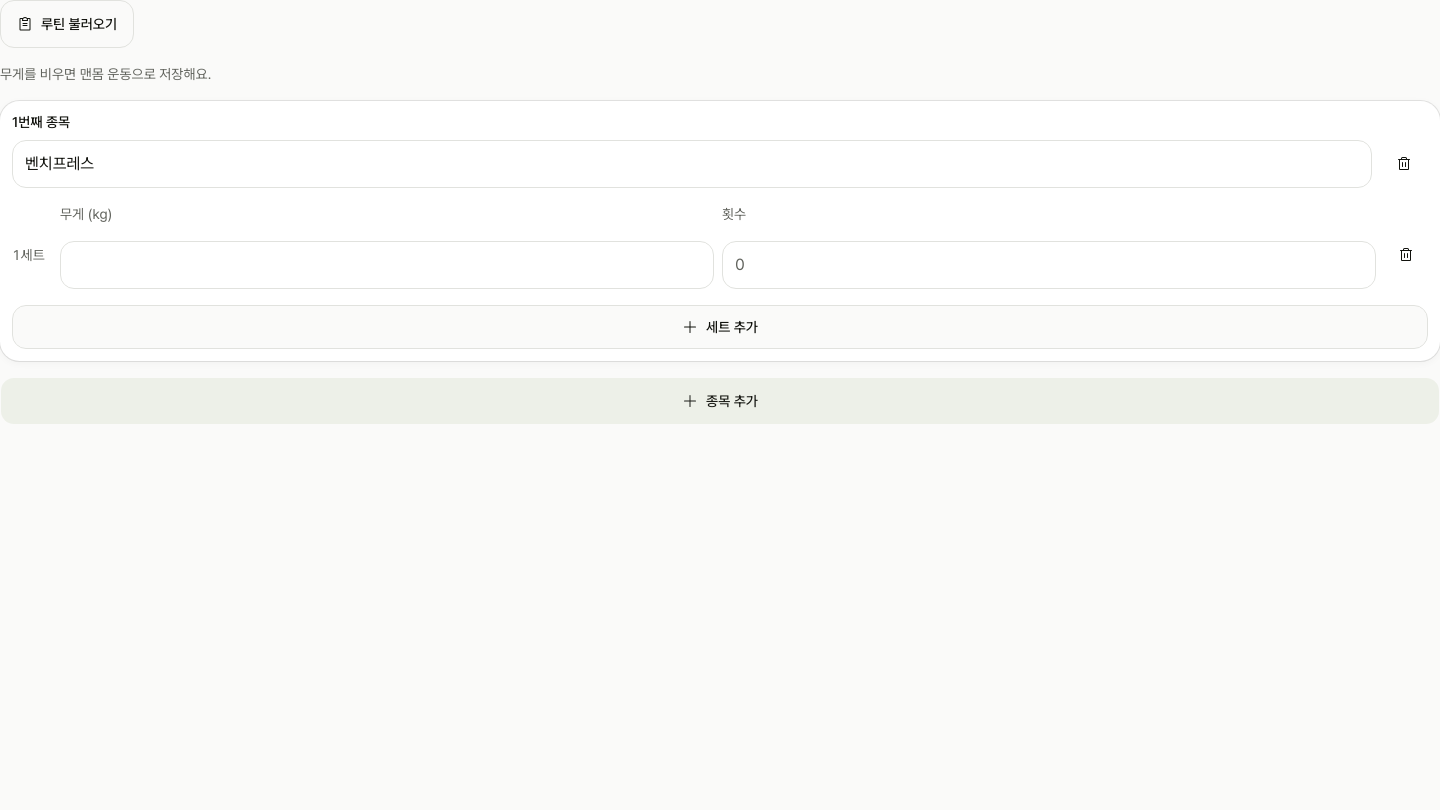
Scenario: 루틴 불러오기 › 다른 루틴 고르기를 누르면 아무것도 바꾸지 않고 목록으로 돌아간다
Click the button "루틴 불러오기": [67, 24] box [0,0,134,48]
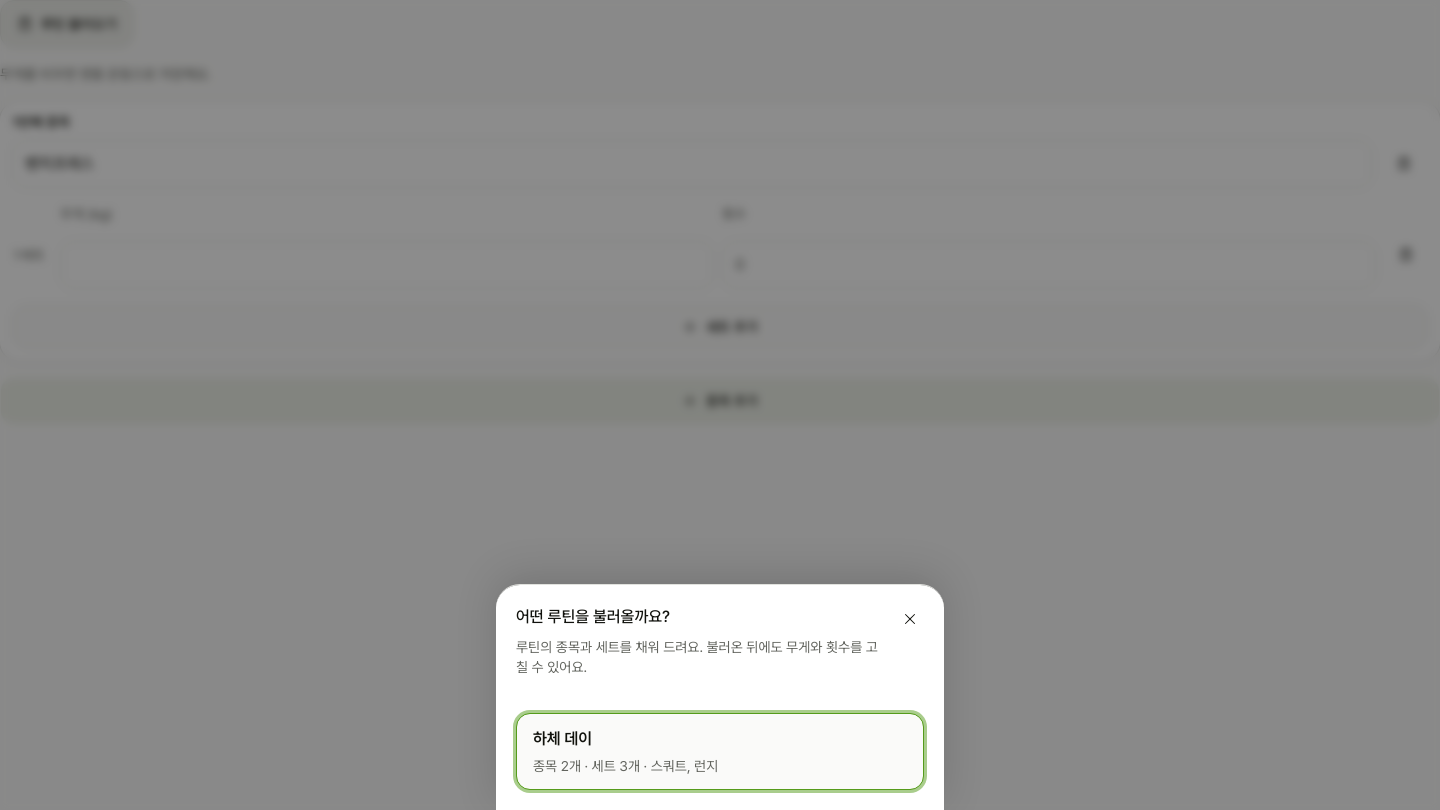
Click the button "하체 데이 종목 2개 · 세트 3개 · 스쿼트, 런지": [563, 739] box [516,713,924,790]
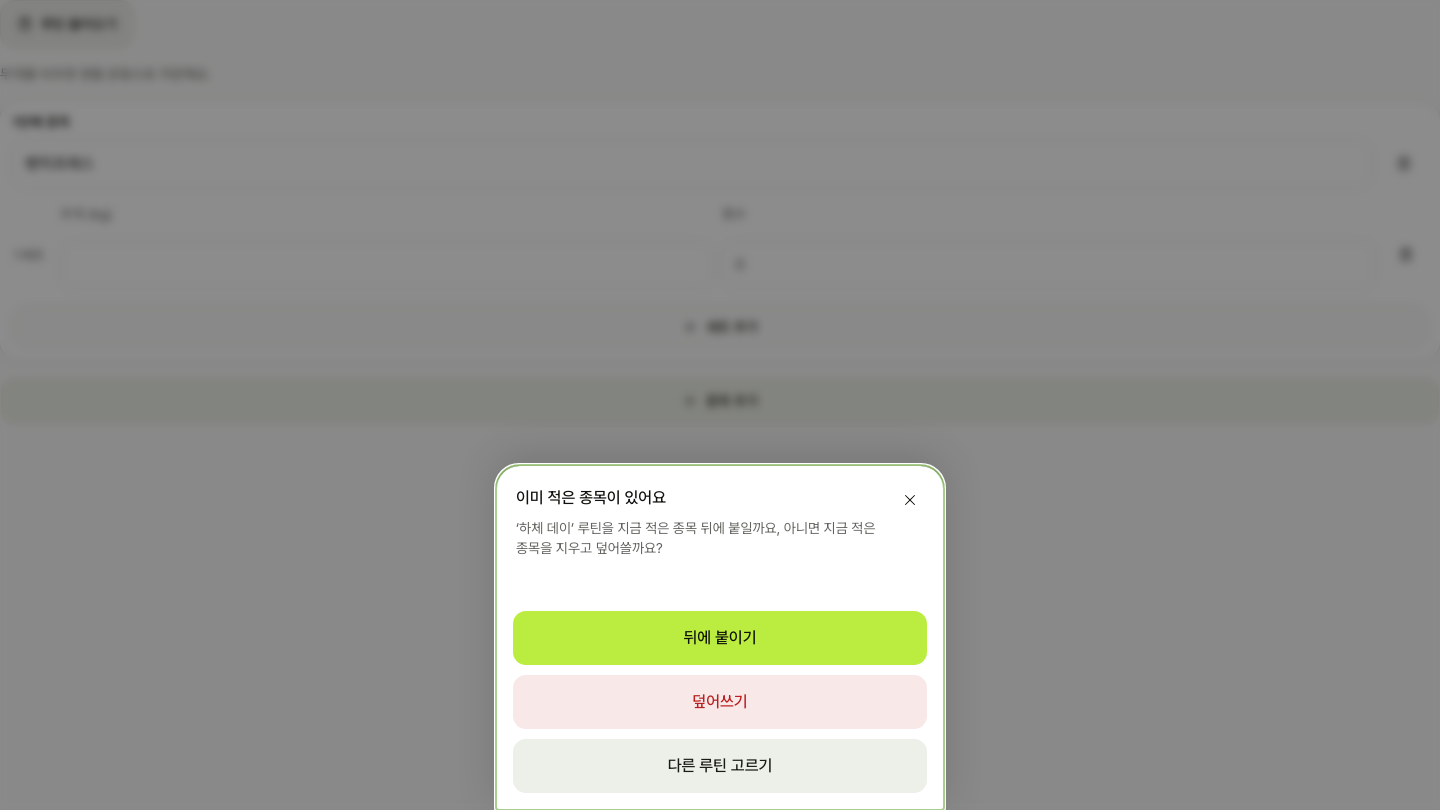
Click the button "다른 루틴 고르기": [720, 766] box [512,738,928,794]
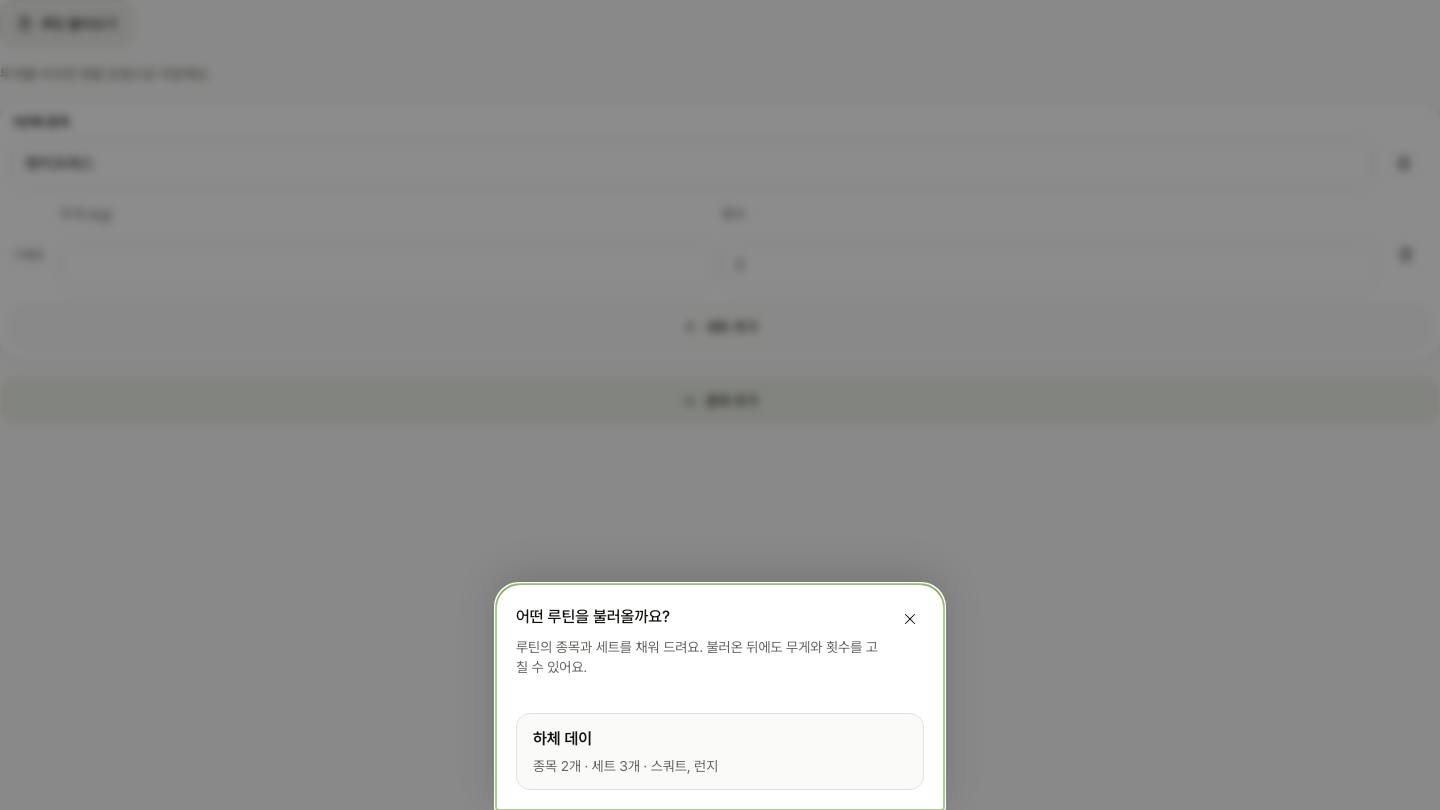
Now the dialog "어떤 루틴을 불러올까요?" is shown, box [496,584,944,809]
Press Escape
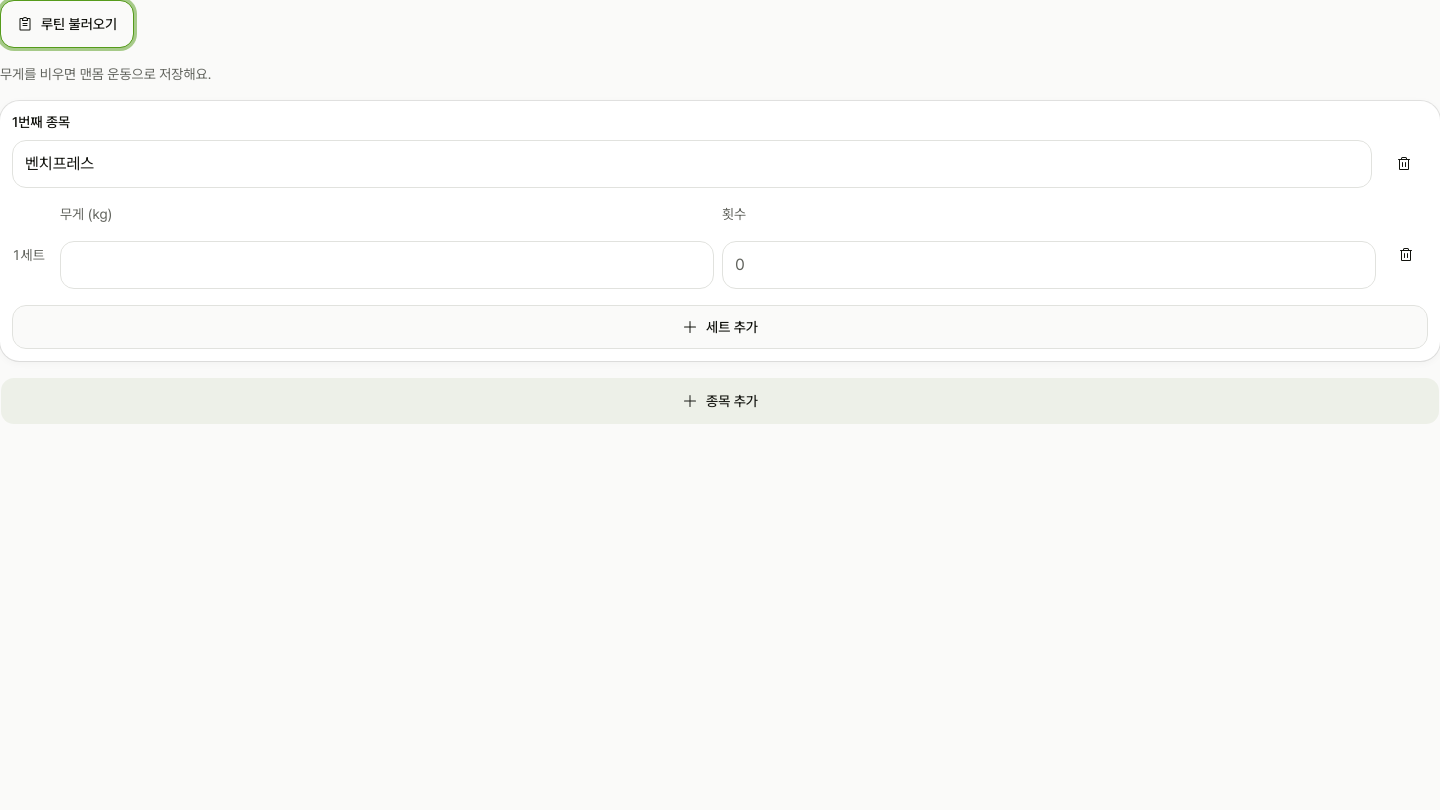
Now the dialog is gone
